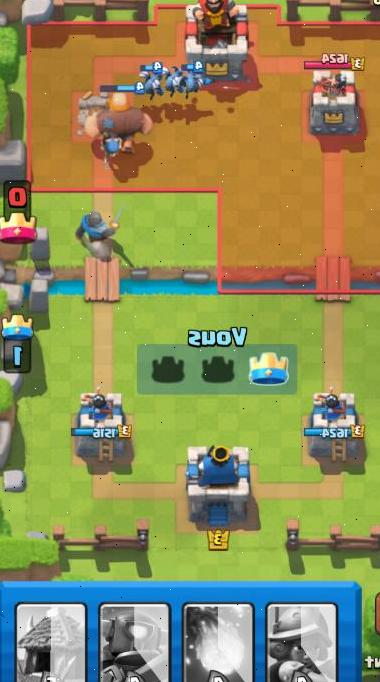player_giant: (84, 86, 157, 152)
player_knight: (72, 202, 126, 248)
player_minions: (178, 59, 212, 94), (138, 59, 172, 93), (158, 65, 190, 96)
